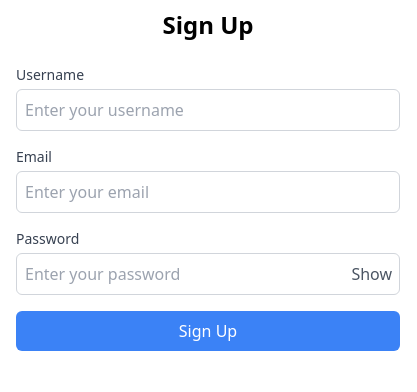
Test: SignUpForm.vue › displays an error message when email is missing
Type "testuser" into the field labelled "Username" at (208, 110), box [16, 89, 400, 131]
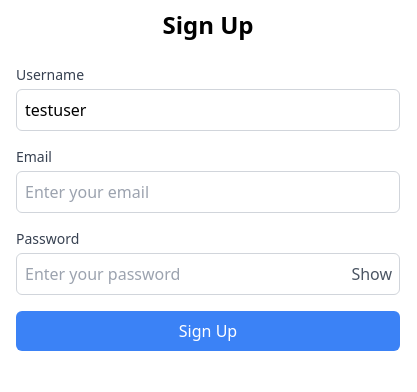
Type "password123" into the password field labelled "Password" at (208, 274), box [16, 253, 400, 295]
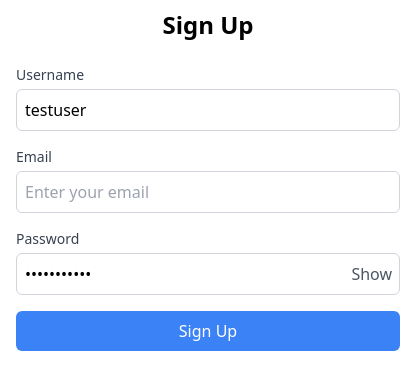
Submit the form
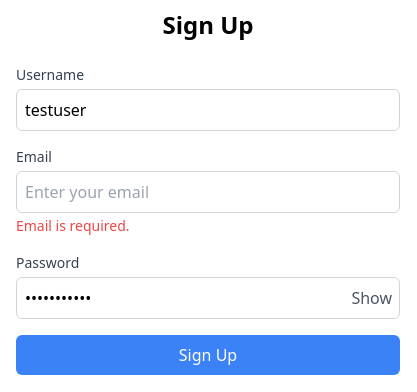
Check: the text "Email is required." is shown, box [16, 216, 130, 235]
